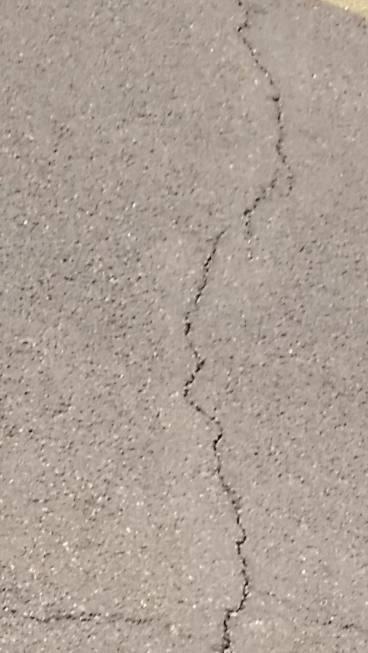A: (177, 7, 298, 651)
